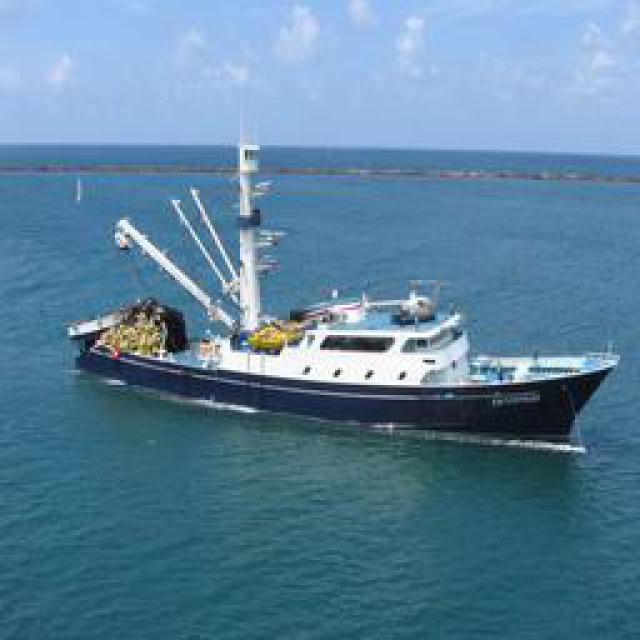Ship: (76, 275, 626, 438)
